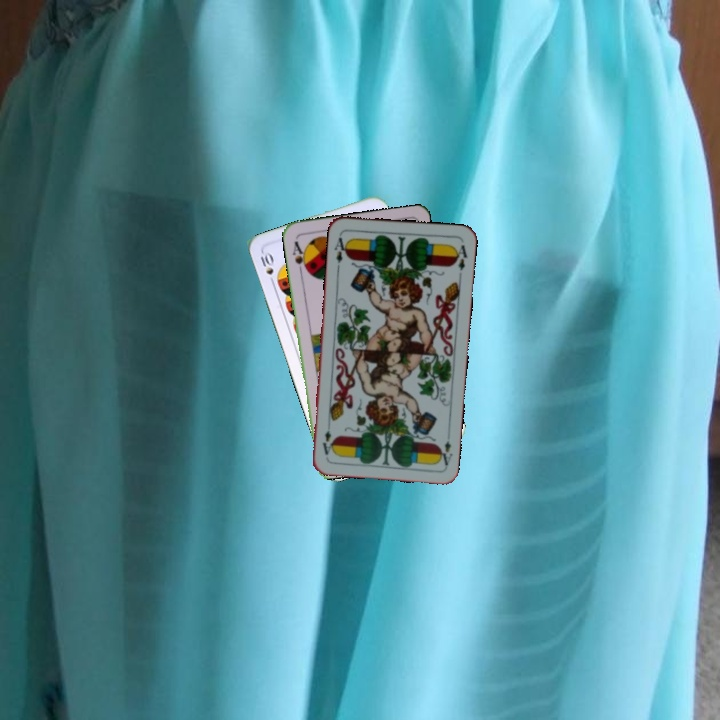EA: (330, 234, 351, 271), (435, 437, 455, 468)
S10: (256, 248, 277, 288)
SA: (288, 237, 310, 276)
